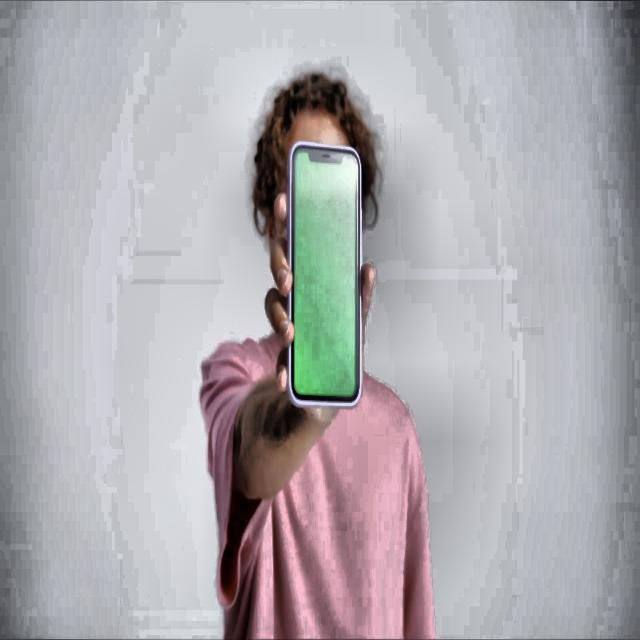Phone: (288, 138, 363, 406)
